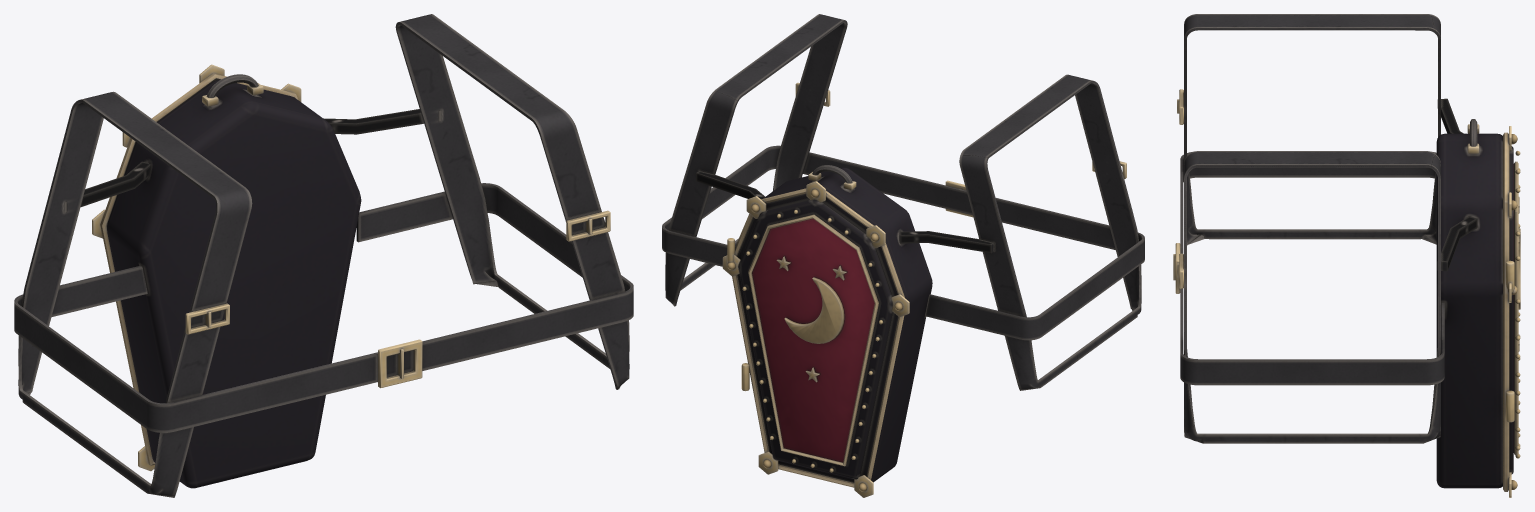
The model's file is NHAcc_CoffinBackpack.fbx.
3 renders of one model, left to right at view 1: azimuth 30°, elevation 25°; view 2: azimuth 150°, elevation 25°; view 3: azimuth 270°, elevation 25°, orthographic. The views are drawn at different scales.
Parts seen in each view (by area): view 1: CoffinBackpack; view 2: CoffinBackpack; view 3: CoffinBackpack.
Part boxes in pixels (x1,y1,x2,y2): CoffinBackpack: (14, 14, 633, 497); CoffinBackpack: (662, 14, 1144, 497); CoffinBackpack: (1173, 14, 1520, 497).
Size of the model in its own units: 2.15 by 1.83 by 1.51.
Materials: 1 (1 with a texture image).
